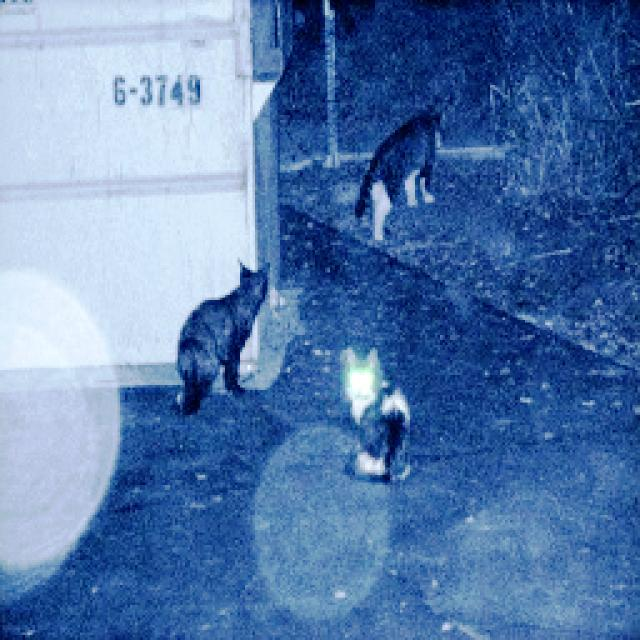cat: (296, 331, 441, 501), (329, 99, 477, 245), (175, 237, 280, 418)
